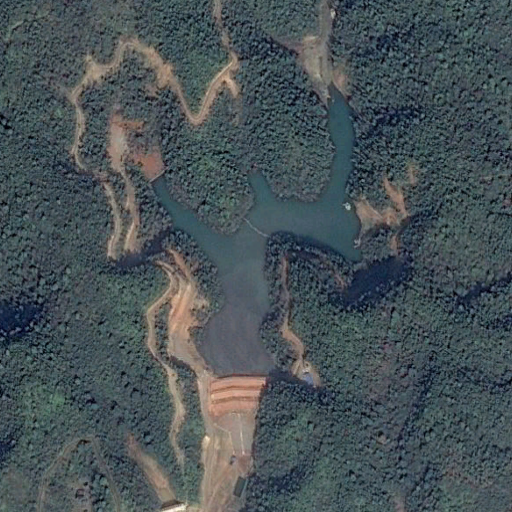tp: (151, 83, 358, 471)
